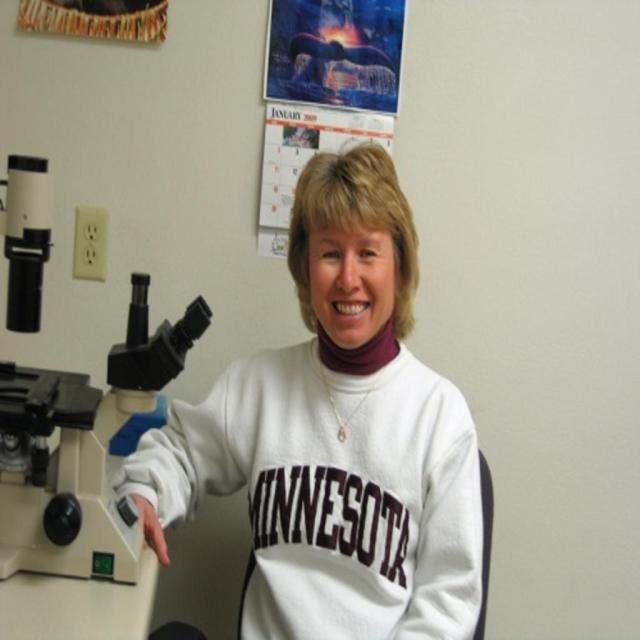Face: (286, 160, 405, 353)
